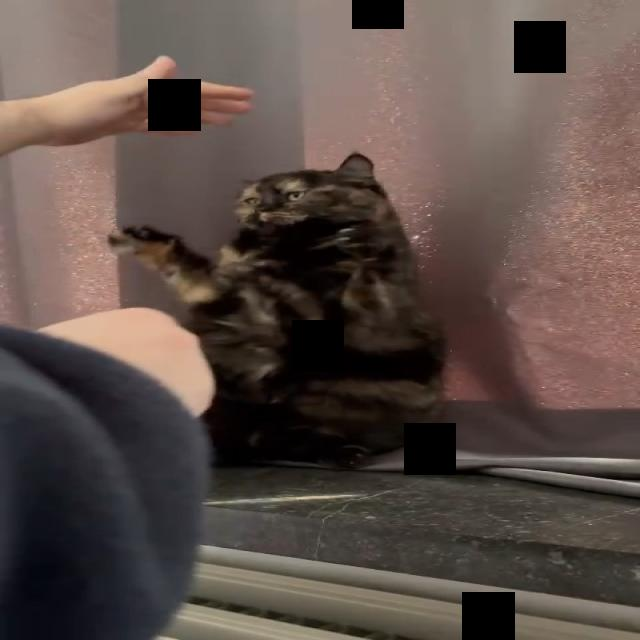authorized: (105, 151, 448, 469)
